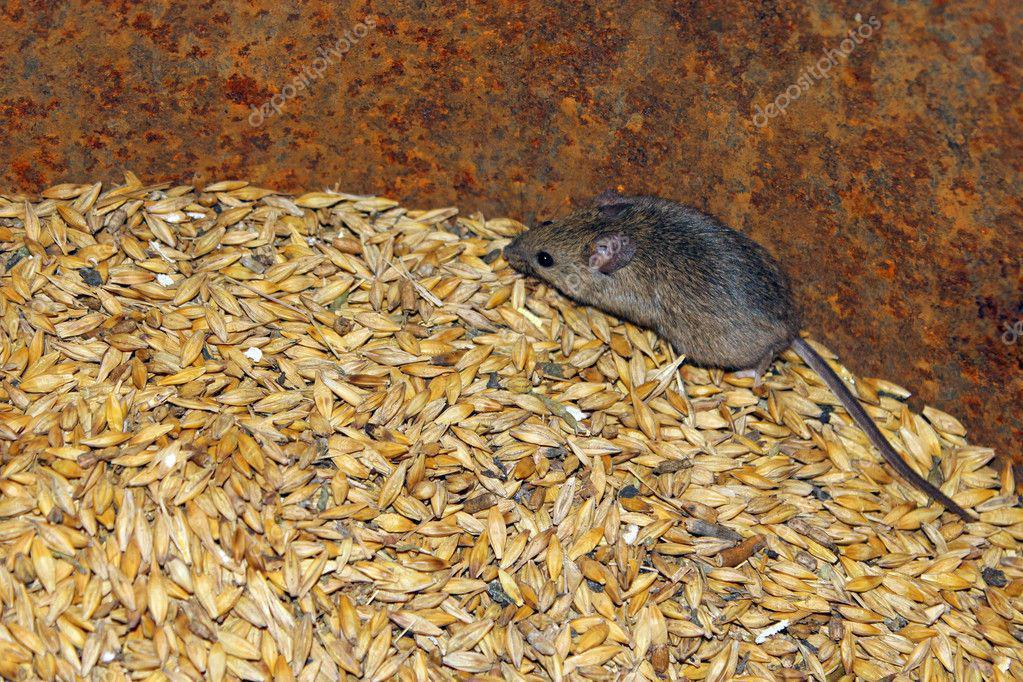rat: (500, 196, 974, 522)
